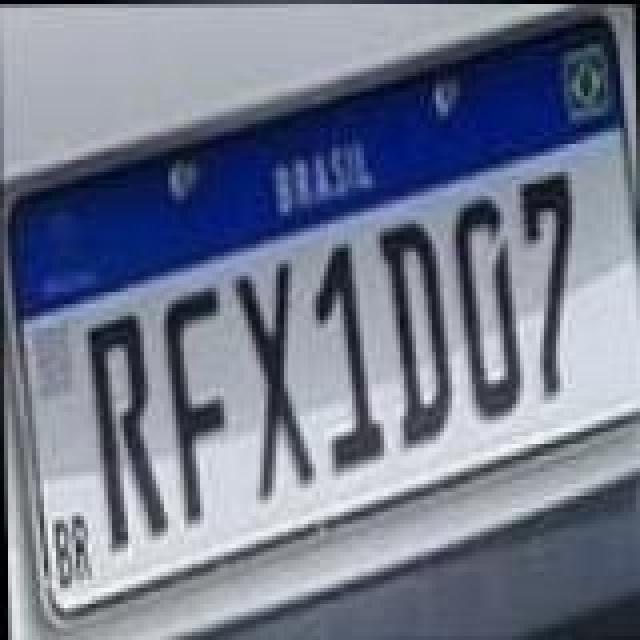1: (310, 244, 382, 480)
7: (520, 172, 580, 404)
D: (380, 220, 456, 452), (454, 196, 526, 420)
F: (162, 286, 230, 522)
R: (86, 306, 170, 550)
X: (232, 256, 316, 500)
